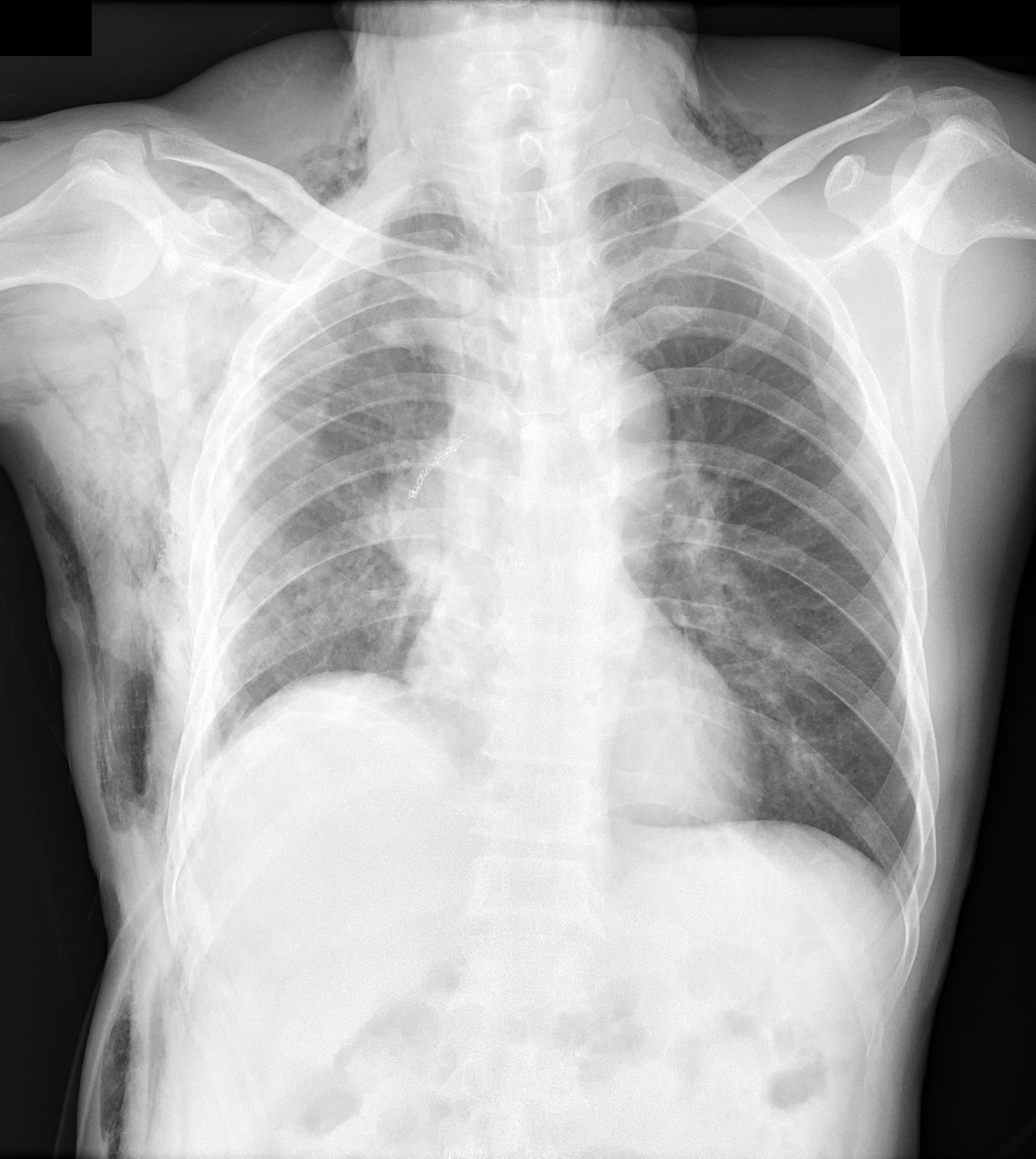Pleural thickening: (163, 702, 261, 793), (867, 833, 916, 930)
